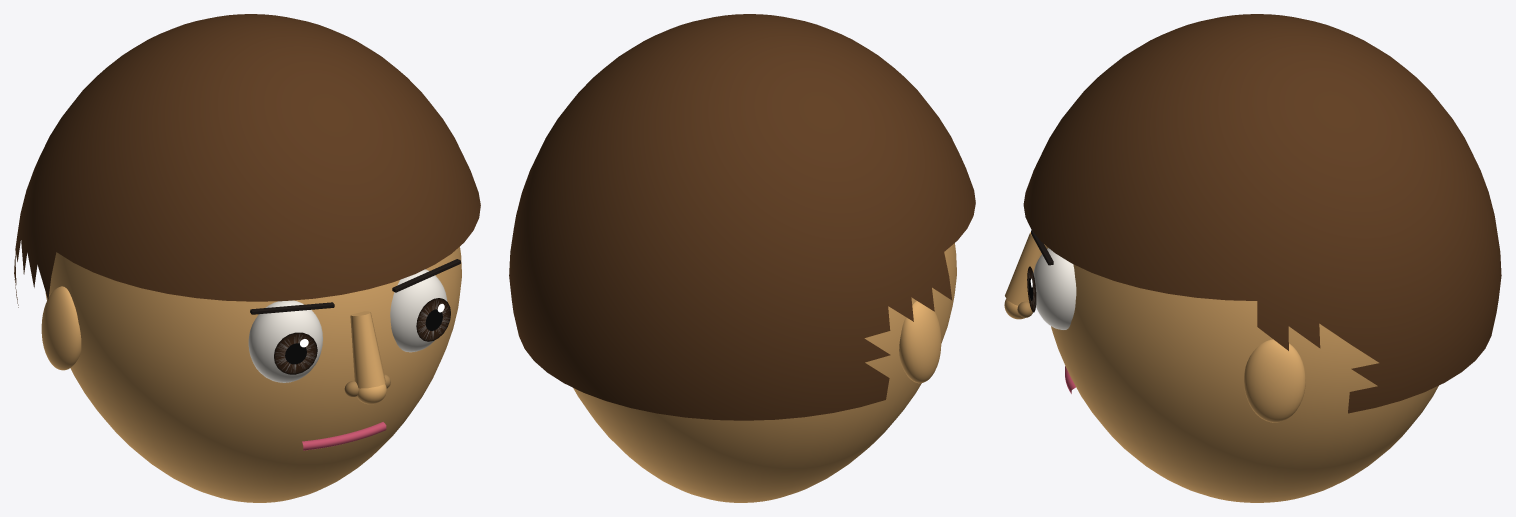
File: femme-01-courts.glb
3 views of the same model, side by side, from view 1: azimuth 30°, elevation 25°; view 2: azimuth 150°, elevation 25°; view 3: azimuth 270°, elevation 25° (orthographic).
Size of the model in its own units: 0.3205 by 0.341 by 0.3366.
Materials: 11 (1 with a texture image).
